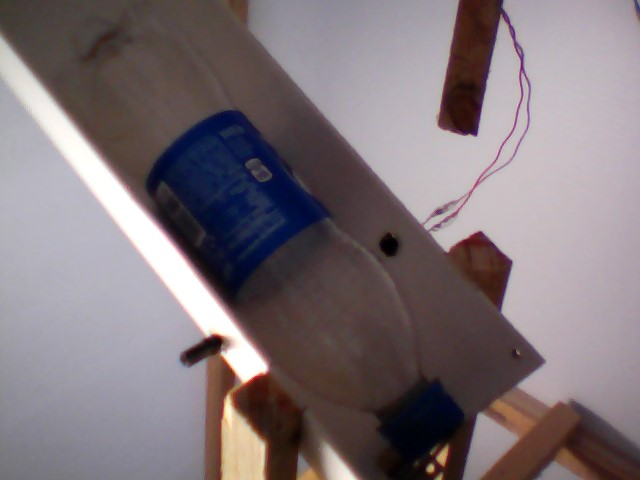plastico: (43, 1, 475, 467)
